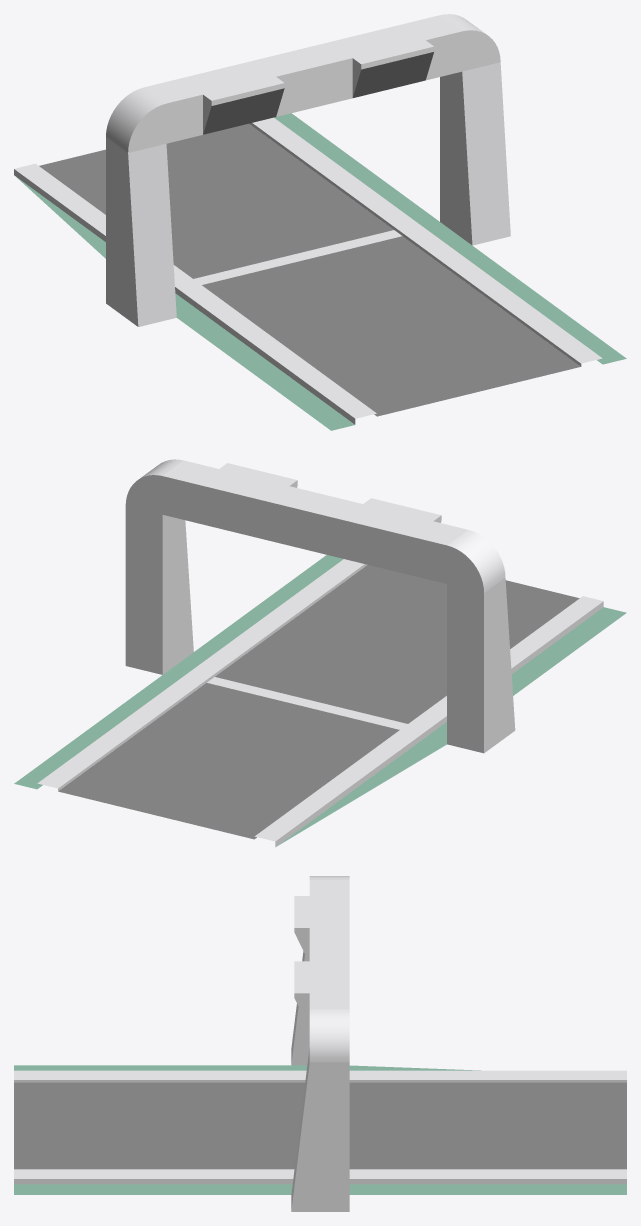
Rendered from roadStart.glb.
3 views of the same model, one above another, from view 1: azimuth 30°, elevation 25°; view 2: azimuth 150°, elevation 25°; view 3: azimuth 270°, elevation 25° (orthographic). The views are drawn at different scales.
Visible parts, largest first — view 1: roadStart(Clone); view 2: roadStart(Clone); view 3: roadStart(Clone).
Boxes of the visible parts, left/top/right/bottom form: roadStart(Clone): left=14, top=14, right=626, bottom=430; roadStart(Clone): left=14, top=459, right=626, bottom=847; roadStart(Clone): left=14, top=876, right=626, bottom=1211.
Bounding box in the file's own units: 1.26 × 0.6683 × 2.
